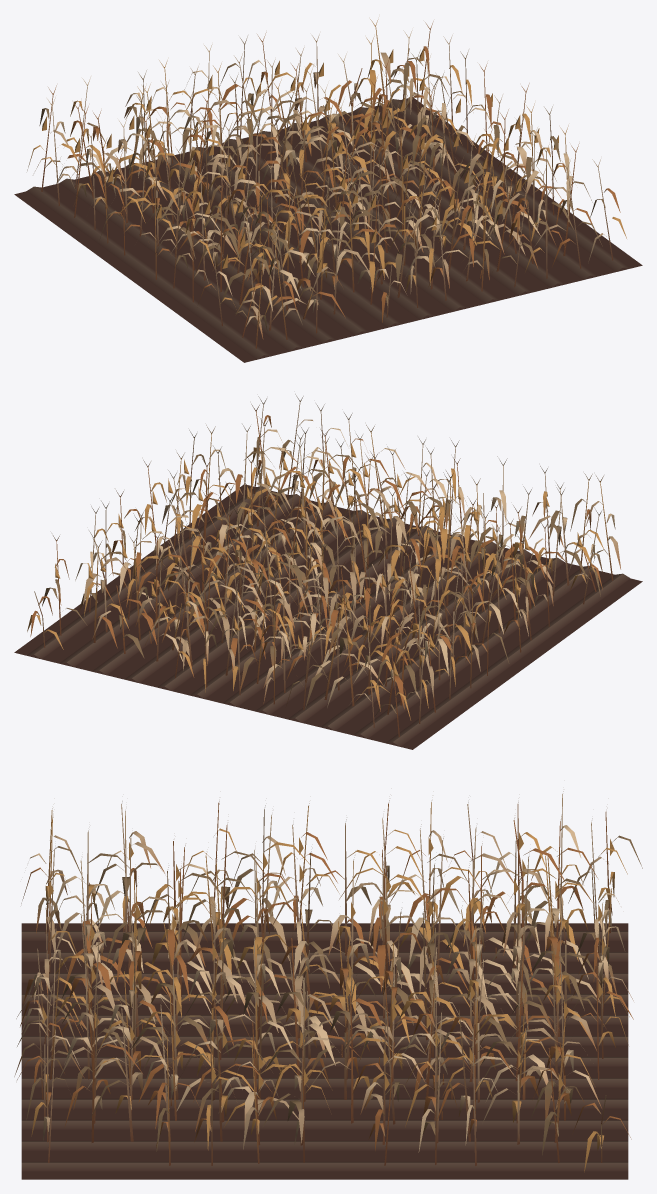
File: veg.corn-block.glb
3 renders of one model, top to bottom at view 1: azimuth 30°, elevation 25°; view 2: azimuth 150°, elevation 25°; view 3: azimuth 270°, elevation 25°, orthographic. The views are drawn at different scales.
Visible parts, largest first — view 1: body; view 2: body; view 3: body.
Boxes of the visible parts, <box> form: body: <box>14,19,642,362</box>; body: <box>14,394,642,749</box>; body: <box>14,791,642,1179</box>.
Bounding box in the file's own units: 10.27 × 2.79 × 10.37.
